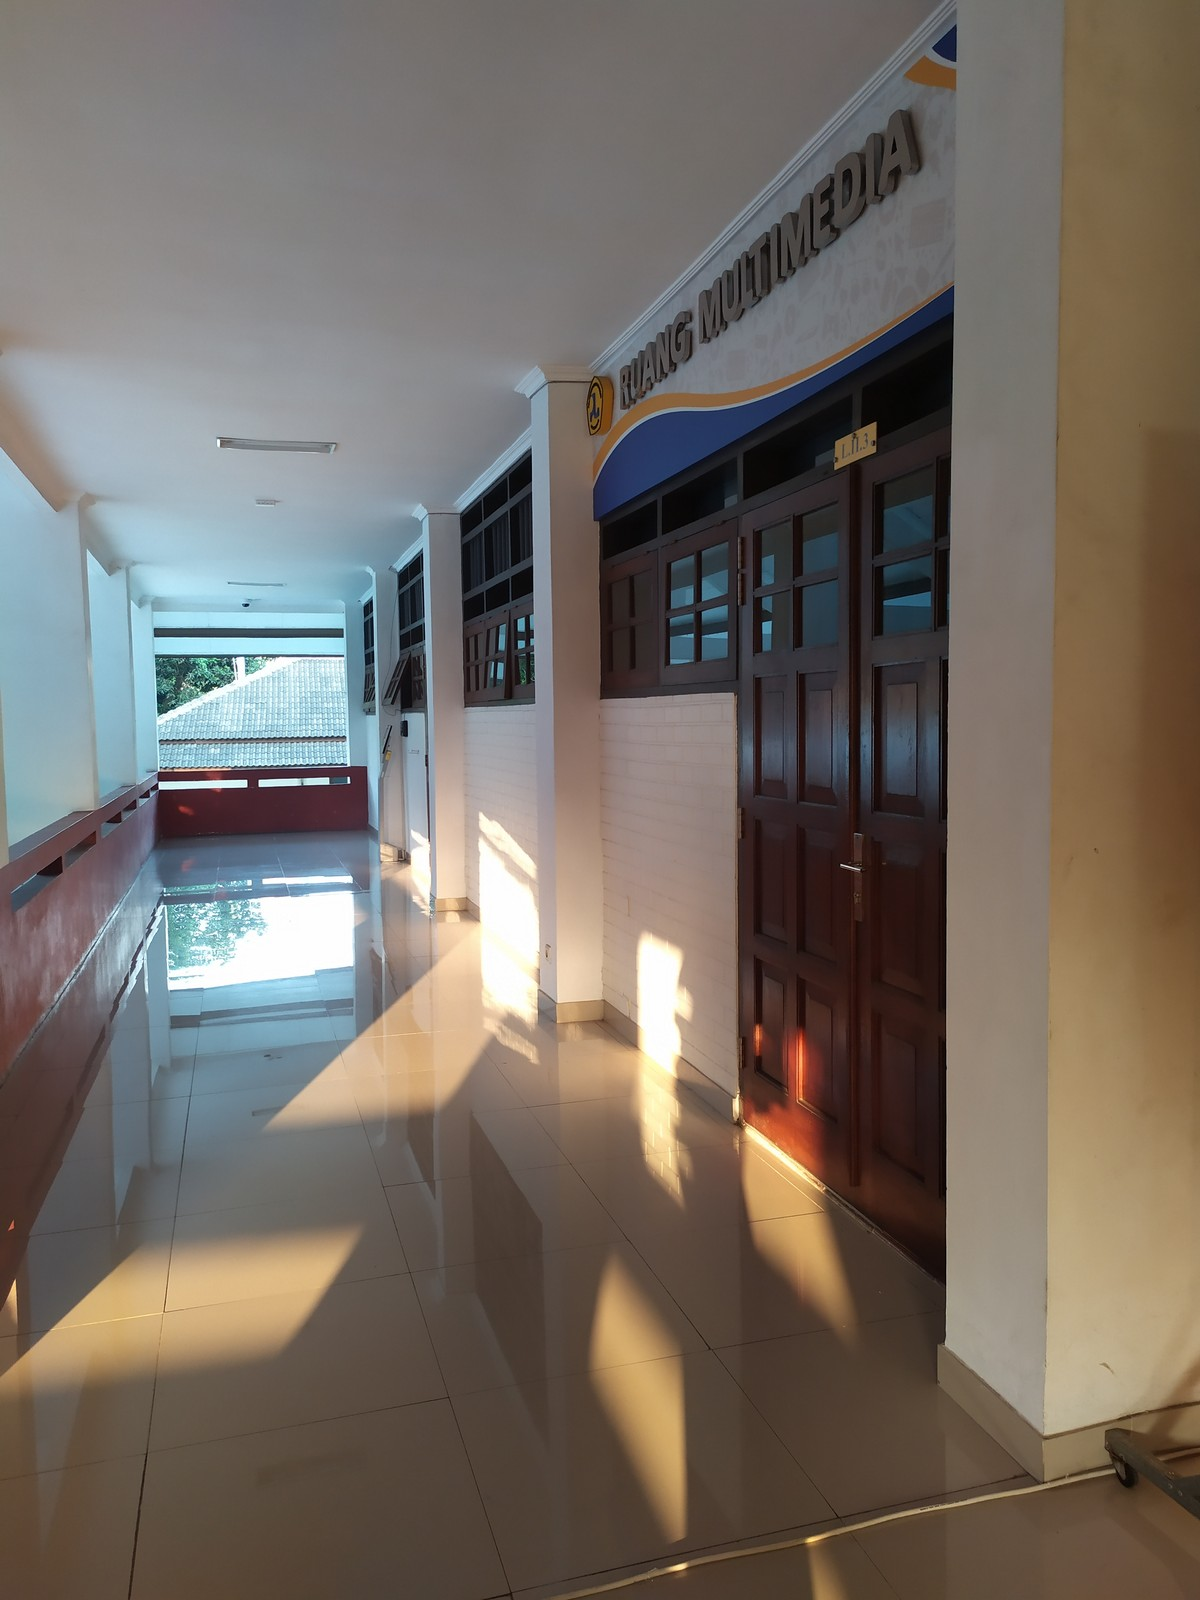concrete column: (937, 13, 1199, 1470), (521, 367, 618, 1031), (415, 501, 476, 918), (371, 563, 413, 866)
